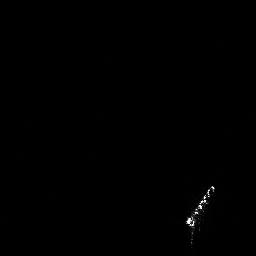ship: (182, 182, 219, 247)
